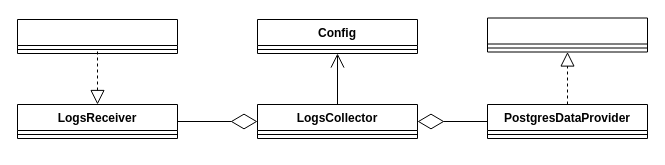
This 665x165 diagram has some shape labels left out. Here are the shapes that lost their labels. From the top down, the centre of each, then its label:
At point 97,36: "AMQPBus".
At point 567,34: "IDataProvider".
